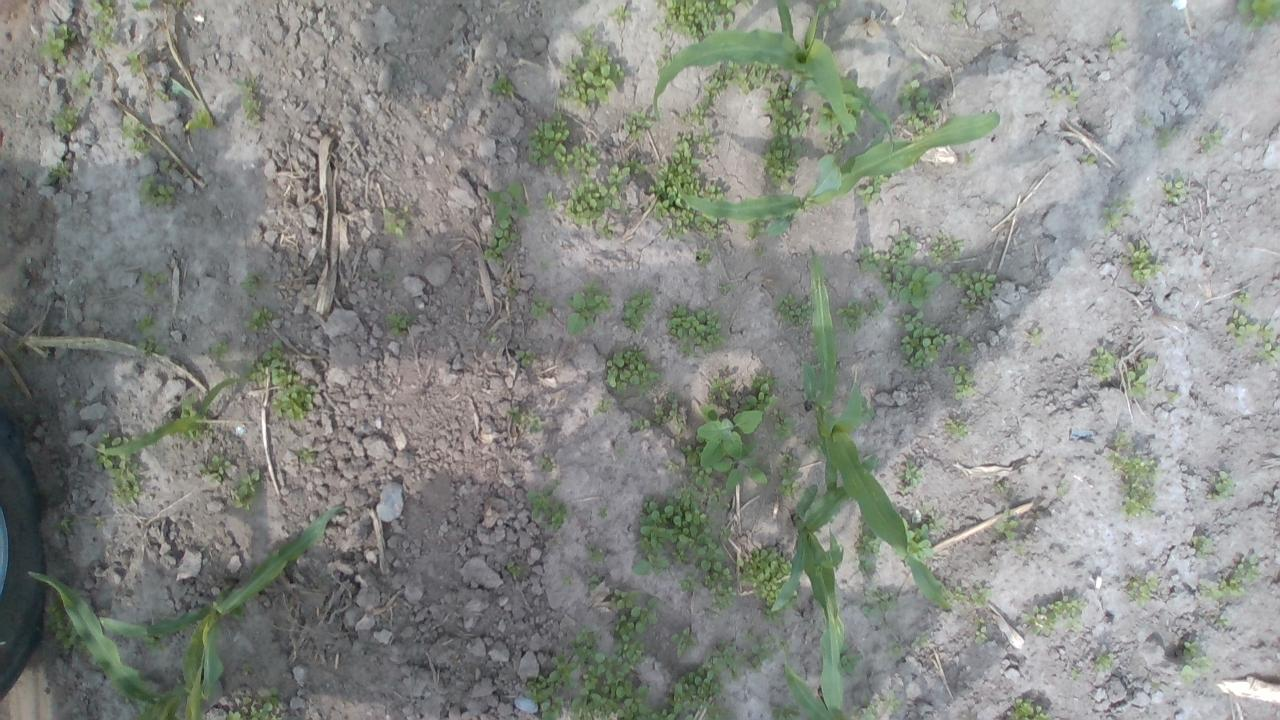Maize: (800, 247, 950, 614), (94, 500, 344, 720), (674, 110, 1002, 236), (651, 0, 896, 141), (772, 454, 880, 720), (25, 565, 203, 720), (80, 374, 237, 457), (772, 644, 848, 720)
Weeds: (630, 484, 730, 575), (646, 135, 726, 238), (681, 404, 768, 493), (569, 643, 664, 720), (556, 28, 624, 109), (876, 231, 942, 310), (763, 81, 809, 192), (1107, 431, 1161, 521), (736, 547, 796, 624), (484, 180, 530, 264), (92, 432, 142, 507), (652, 0, 736, 44), (564, 172, 630, 226), (892, 311, 951, 371), (664, 668, 731, 720), (666, 304, 728, 357), (816, 94, 870, 148), (565, 276, 614, 334), (527, 111, 570, 176), (604, 346, 661, 394), (610, 588, 660, 642), (1204, 554, 1260, 602), (898, 80, 941, 142), (524, 654, 578, 702), (44, 595, 87, 651), (524, 479, 566, 530), (36, 20, 79, 67), (1125, 238, 1168, 284), (949, 268, 996, 310), (705, 638, 749, 680), (262, 337, 300, 385), (701, 60, 750, 96), (1176, 640, 1212, 688), (740, 372, 781, 414), (272, 383, 314, 423), (740, 629, 778, 672), (901, 517, 935, 563), (850, 521, 880, 571), (232, 470, 266, 514), (1236, 0, 1280, 34), (701, 574, 738, 614), (1124, 353, 1156, 398), (1101, 192, 1134, 235), (622, 288, 654, 332), (236, 74, 263, 124), (119, 115, 152, 155), (1126, 572, 1160, 610), (137, 173, 176, 206), (774, 292, 812, 325), (1227, 308, 1260, 346), (1020, 604, 1056, 638), (775, 452, 800, 500), (568, 626, 602, 661), (834, 300, 869, 334), (196, 452, 231, 485), (862, 586, 898, 618), (946, 362, 976, 400), (1054, 596, 1086, 630), (896, 459, 925, 496), (931, 234, 964, 266), (856, 174, 889, 206), (250, 687, 282, 720), (607, 158, 646, 184), (1008, 697, 1052, 720), (1207, 469, 1237, 502), (1088, 346, 1117, 380), (52, 102, 84, 132), (570, 141, 600, 172), (1257, 325, 1280, 365), (679, 97, 713, 124), (1158, 176, 1188, 206), (994, 506, 1019, 542), (381, 206, 411, 236), (624, 107, 652, 139), (751, 60, 782, 88), (671, 625, 698, 656), (849, 693, 880, 720), (184, 108, 218, 132), (654, 393, 680, 424), (771, 409, 796, 441), (838, 644, 863, 676), (138, 272, 168, 298), (136, 334, 166, 360), (854, 246, 881, 274), (655, 45, 678, 77), (243, 307, 273, 331), (386, 312, 416, 336), (921, 502, 946, 530), (87, 0, 115, 24), (224, 695, 250, 720), (539, 696, 566, 720), (47, 161, 74, 185), (1199, 130, 1226, 154), (488, 74, 517, 96), (241, 357, 266, 382), (606, 2, 632, 26), (70, 70, 94, 96), (1190, 534, 1214, 559), (710, 370, 730, 400), (90, 25, 114, 49), (1104, 30, 1127, 54), (531, 295, 553, 320), (239, 275, 267, 294), (770, 703, 801, 720), (294, 445, 319, 466), (882, 688, 902, 714), (124, 48, 142, 76), (970, 582, 994, 603), (944, 418, 969, 438), (134, 312, 158, 332), (1158, 127, 1180, 148), (1062, 83, 1080, 108), (813, 0, 841, 16), (143, 632, 165, 652), (539, 188, 559, 210), (860, 395, 876, 422), (948, 0, 966, 24), (679, 574, 700, 594), (54, 517, 76, 536), (954, 335, 974, 355), (746, 219, 766, 239), (1232, 288, 1252, 308), (1094, 652, 1114, 672), (866, 296, 884, 318), (1210, 612, 1231, 630), (973, 617, 987, 644), (943, 586, 967, 601), (598, 218, 614, 240), (526, 415, 544, 434), (694, 247, 712, 266), (586, 546, 604, 564), (516, 348, 534, 366), (212, 340, 230, 358), (885, 642, 903, 660), (1026, 327, 1044, 344), (1044, 85, 1062, 102), (910, 631, 929, 647), (508, 560, 524, 578), (1056, 478, 1070, 498), (508, 406, 524, 423), (594, 398, 611, 414), (161, 158, 179, 173), (631, 416, 650, 430), (806, 439, 822, 454), (132, 0, 150, 13), (665, 459, 680, 474), (137, 700, 152, 715), (908, 62, 923, 77), (961, 150, 976, 165), (584, 574, 600, 588), (154, 88, 170, 102), (93, 514, 107, 530), (1163, 390, 1180, 403), (540, 457, 554, 472), (181, 404, 196, 418), (1136, 112, 1150, 127), (203, 422, 216, 438), (506, 284, 520, 298), (1080, 154, 1096, 166), (182, 429, 203, 438), (719, 282, 732, 295), (597, 507, 609, 518), (994, 481, 1004, 494), (561, 576, 574, 586), (1071, 666, 1080, 680), (486, 332, 498, 342), (738, 0, 752, 8), (1013, 546, 1027, 554), (242, 664, 253, 674), (169, 0, 186, 6), (754, 246, 764, 256), (616, 446, 626, 456), (674, 422, 686, 430), (72, 397, 80, 406)
